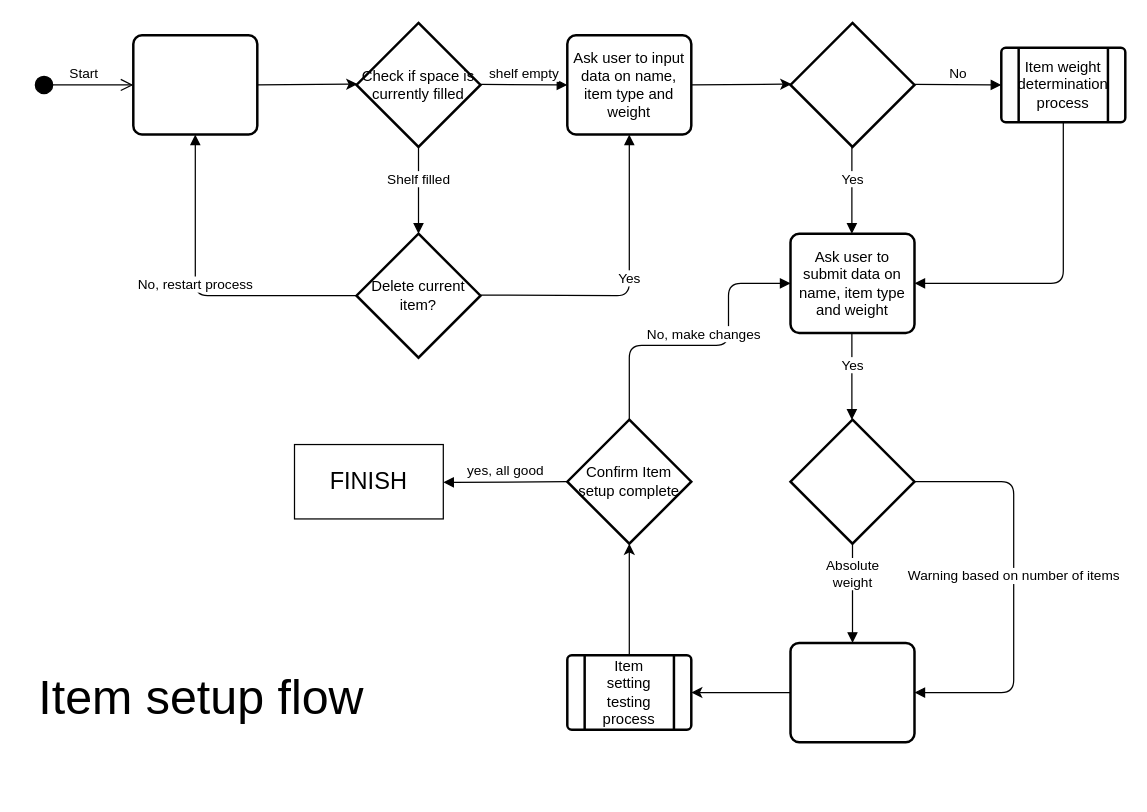
Some shapes in this 1147 by 812 pixel diagram are drawn without their labels. The shapes that lost their labels are listed below. From the top down, each one's centre as x and y in pixels, then its label:
point 194,84: Ask user where item will be stored
point 852,84: Is item weight known by user
point 852,481: Ask user to set warning level
point 852,692: Form completed
